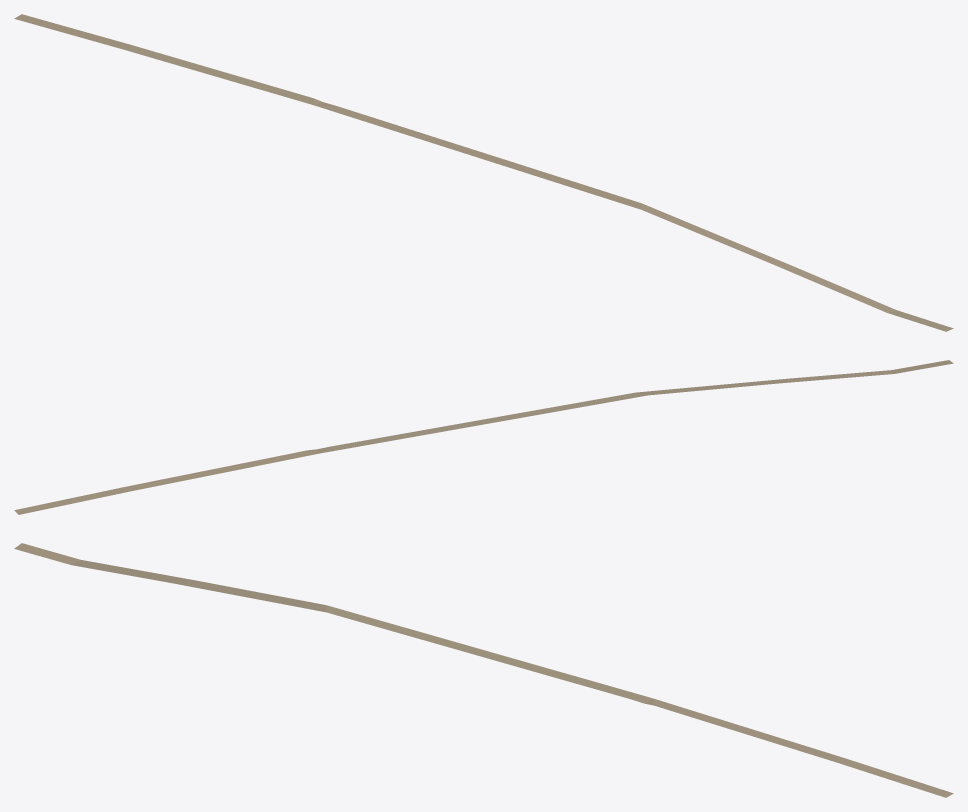
The model's file is farm_-10_-11_track.glb.
The picture shows the model from 3 angles, top to bottom: view 1: azimuth 90°, elevation 25°; view 2: azimuth 150°, elevation 25°; view 3: azimuth 270°, elevation 25°; orthographic projection. The views are drawn at different scales.
Parts seen in each view (by area): view 1: geometry_0; view 2: geometry_0; view 3: geometry_0.
Boxes of the visible parts, bbox=[...] form: geometry_0: bbox=[14, 14, 953, 331]; geometry_0: bbox=[14, 360, 953, 514]; geometry_0: bbox=[14, 543, 953, 797].
Size of the model in its own units: 166 by 9.89 by 230.
